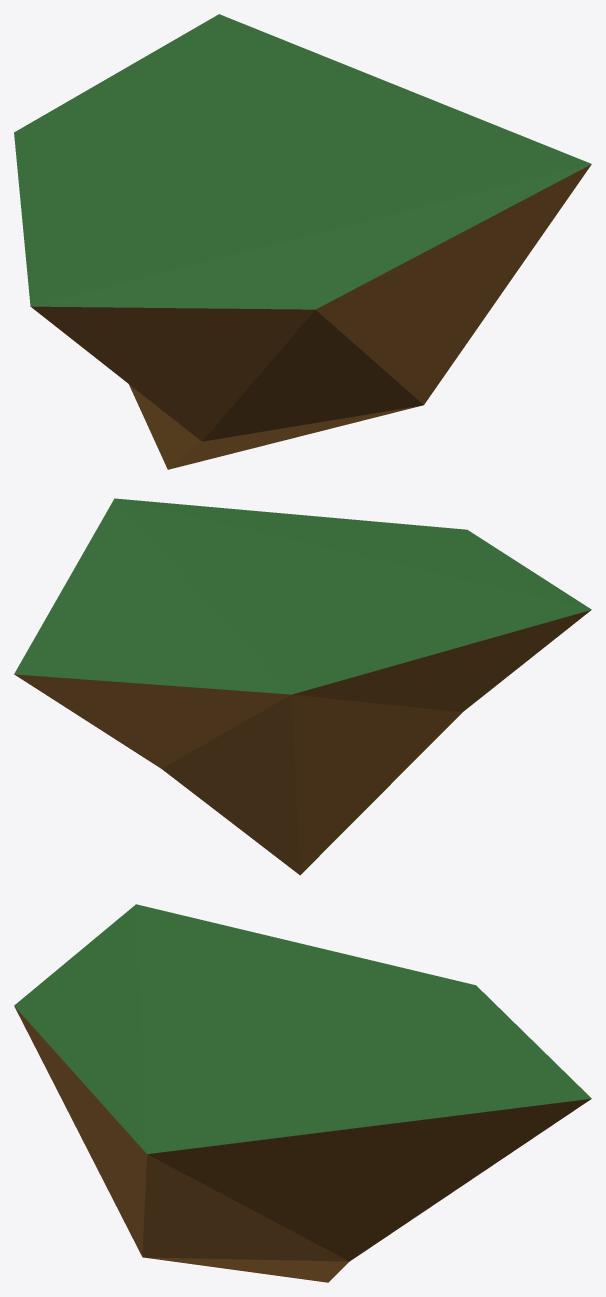
File: mediumIslandLOD2.fbx
The picture shows the model from 3 angles, top to bottom: view 1: azimuth 30°, elevation 25°; view 2: azimuth 150°, elevation 25°; view 3: azimuth 270°, elevation 25°; orthographic projection. The views are drawn at different scales.
Parts seen in each view (by area): view 1: Cube.005; view 2: Cube.005; view 3: Cube.005.
Part boxes in pixels (x1,y1,x2,y2): Cube.005: [14, 14, 591, 469]; Cube.005: [14, 498, 591, 875]; Cube.005: [14, 904, 591, 1282].
Bounding box in the file's own units: 527 × 267 × 515.
